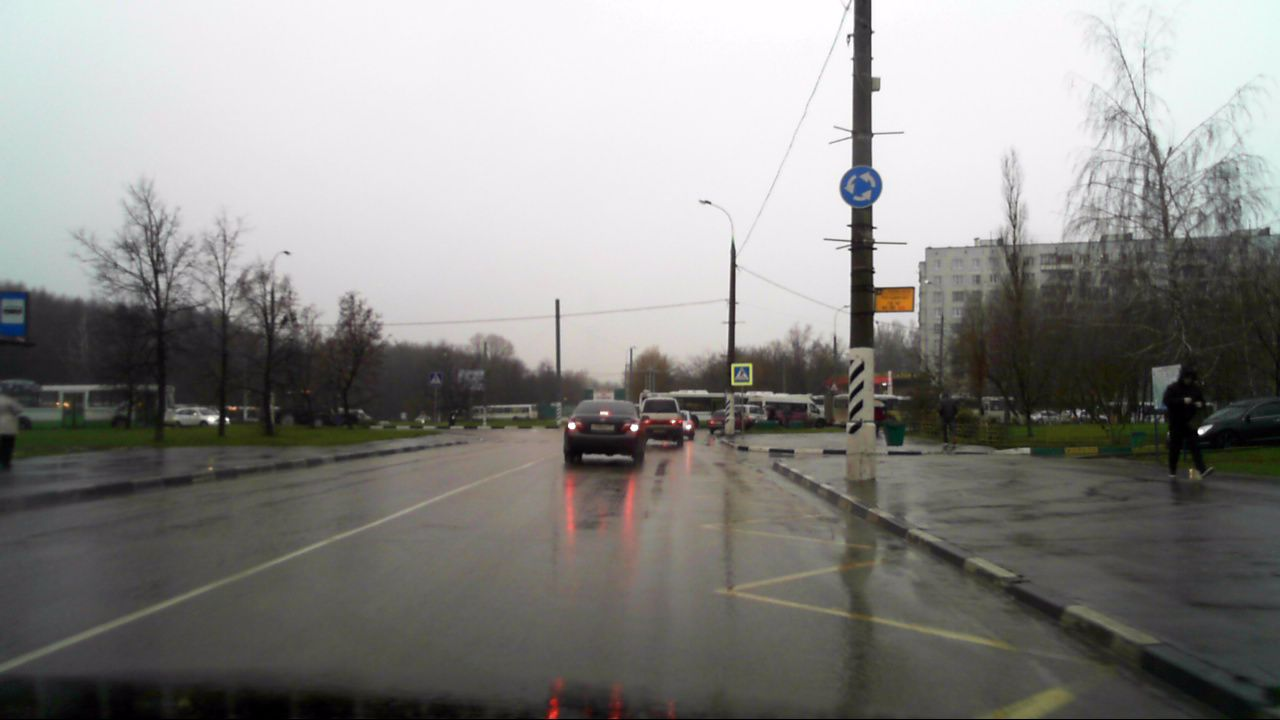Round-About: (839, 166, 882, 207)
